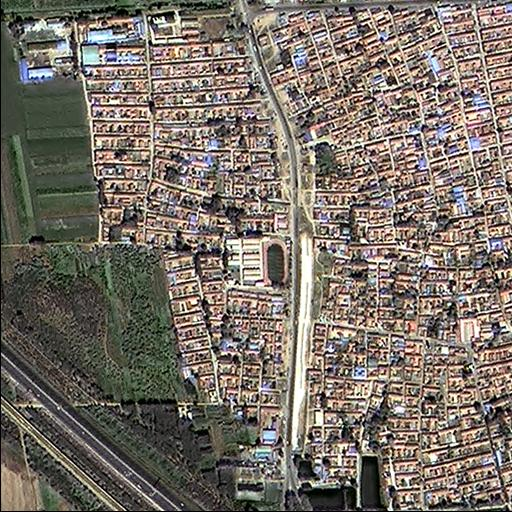school: (224, 233, 292, 288)
